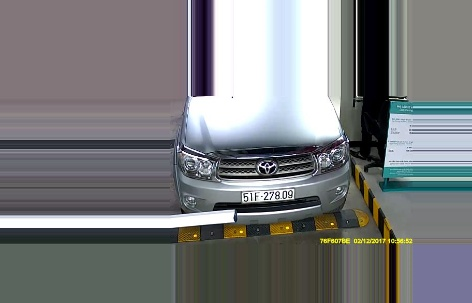plate: (241, 187, 295, 201)
